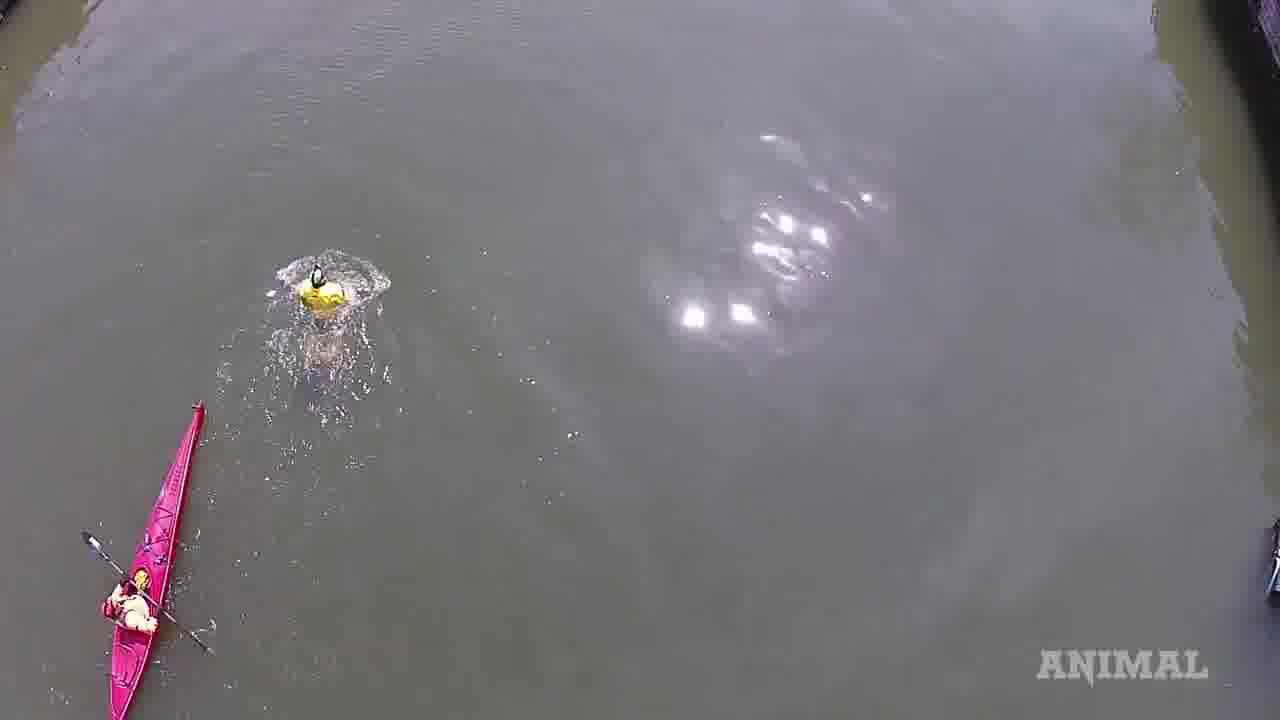human: (277, 247, 395, 368)
